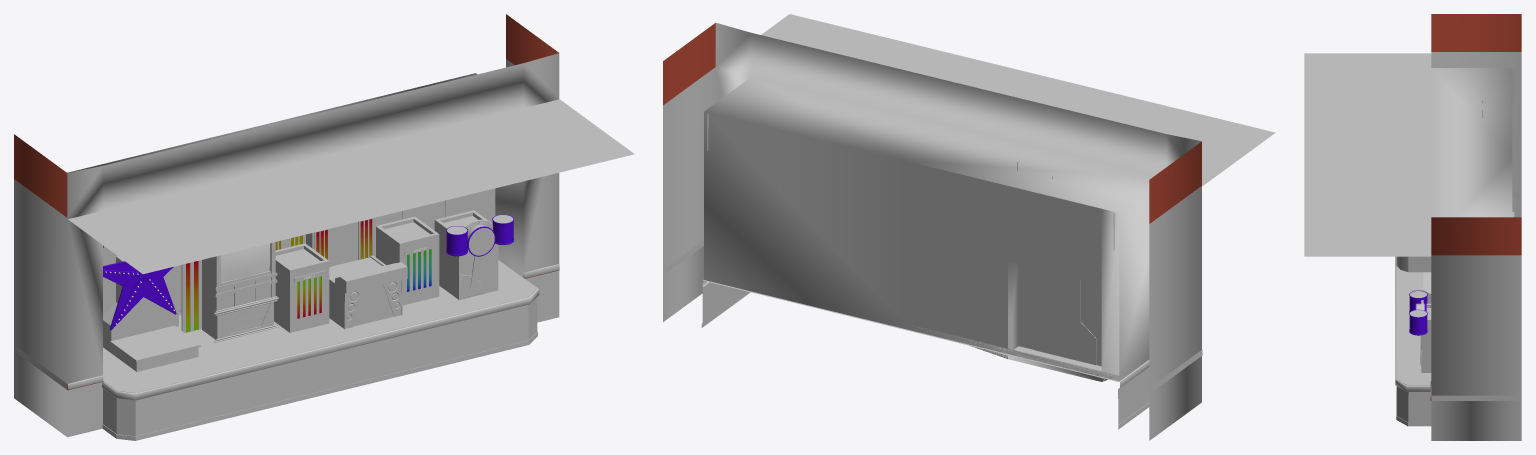
Rendered from Road Stage.fbx.
3 renders of one model, left to right at view 1: azimuth 30°, elevation 25°; view 2: azimuth 150°, elevation 25°; view 3: azimuth 270°, elevation 25°, orthographic. The views are drawn at different scales.
Visible parts, largest first — view 1: RoadStage, Circle.008, Cube.001, Cube.002, Cube, Cube.005, Plane.004, Cube.006, Cube.003, Cube.007, Cylinder; view 2: RoadStage, Circle.008; view 3: RoadStage, Cube.006, Cube.002, Cylinder.004, Cylinder.002.
Part boxes in pixels (x1,y1,x2,y2): RoadStage: [14, 14, 634, 440]; Circle.008: [103, 256, 200, 371]; Cube.001: [202, 242, 279, 342]; Cube.002: [329, 255, 407, 329]; Cube: [274, 243, 329, 332]; Cube.005: [376, 216, 439, 305]; Plane.004: [181, 188, 495, 332]; Cube.006: [434, 210, 498, 299]; Cube.003: [306, 217, 375, 266]; Cube.007: [103, 217, 375, 267]; Cylinder: [465, 219, 494, 255]; RoadStage: [663, 14, 1275, 440]; Circle.008: [1035, 272, 1096, 365]; RoadStage: [1304, 14, 1521, 440]; Cube.006: [1421, 303, 1431, 372]; Cube.002: [1412, 272, 1431, 303]; Cylinder.004: [1409, 310, 1427, 334]; Cylinder.002: [1409, 291, 1427, 311].
Size of the model in its own units: 830 by 426 by 375.
